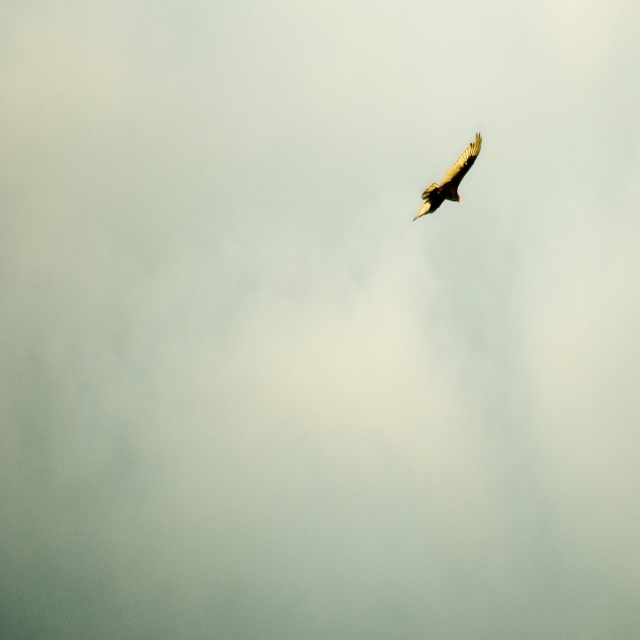Eagle: (418, 135, 485, 226)
